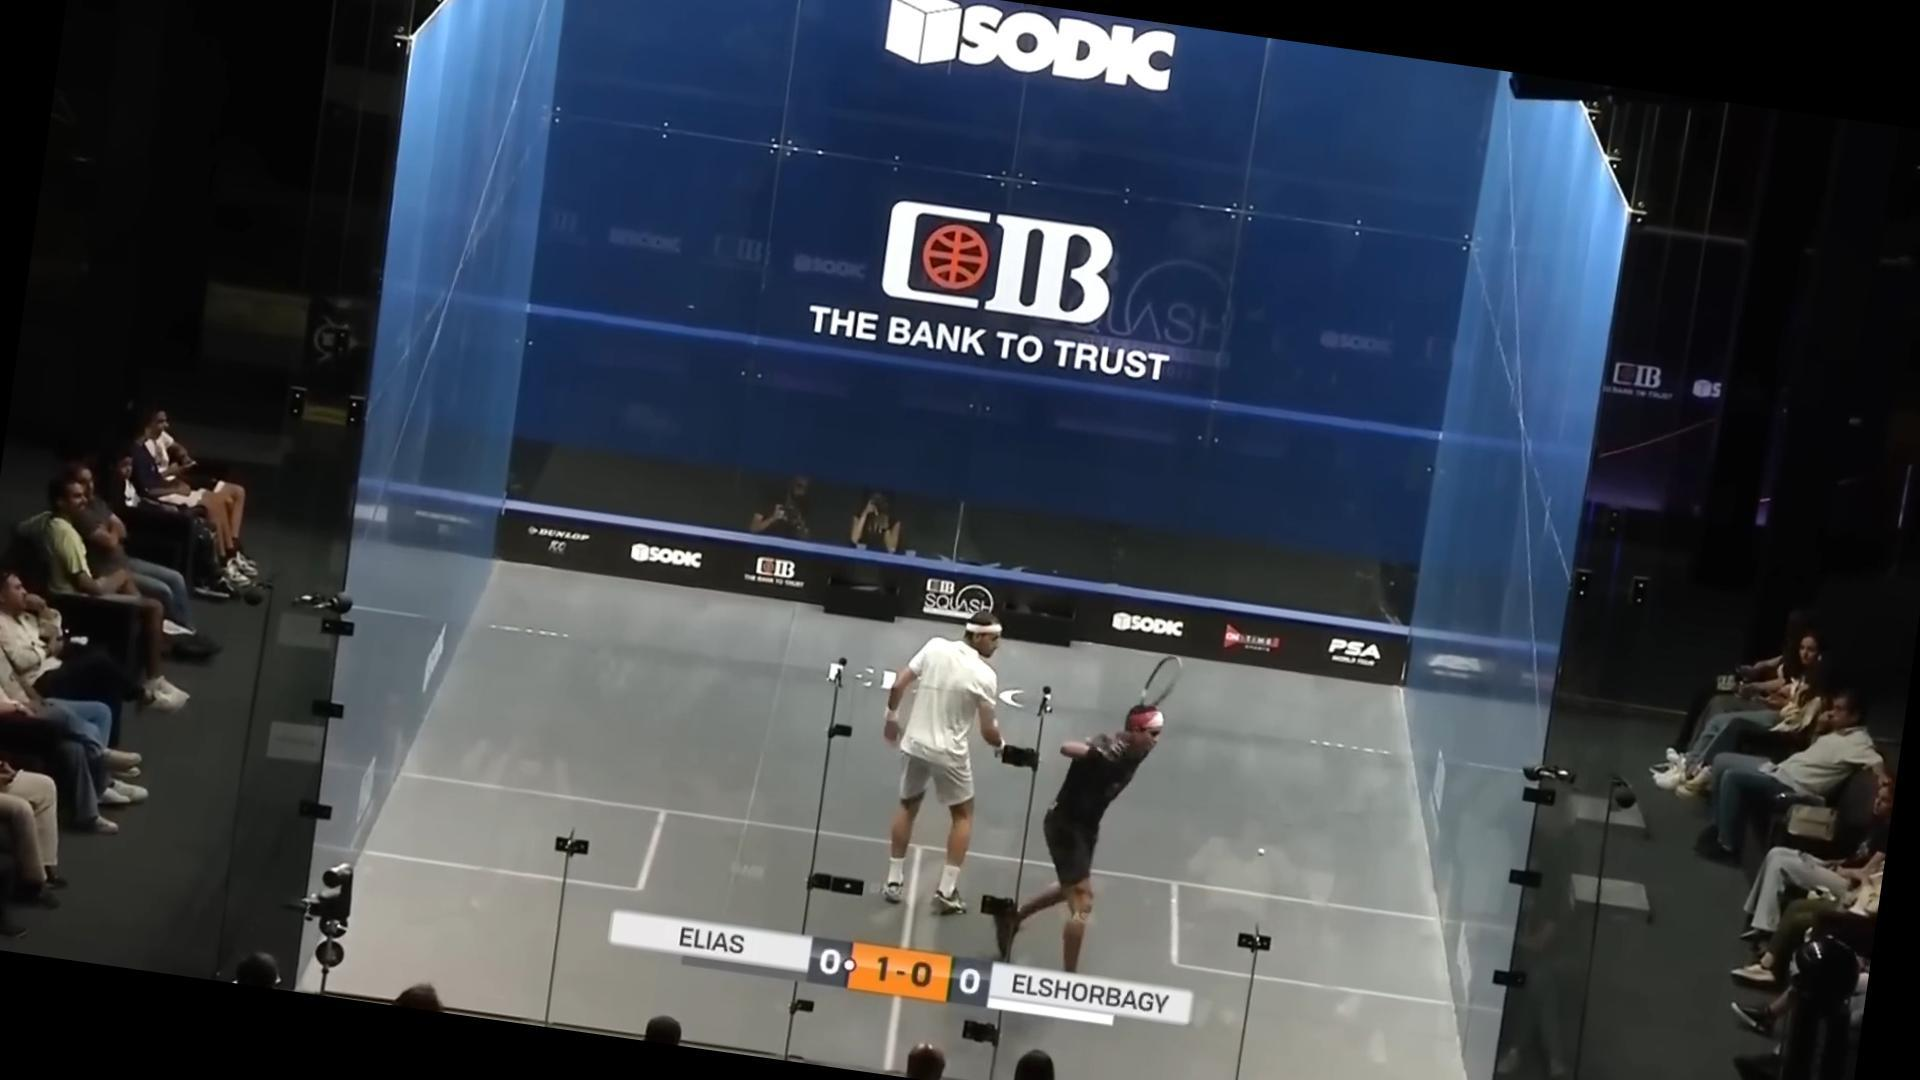Squash-Ball: (1236, 827, 1282, 874)
